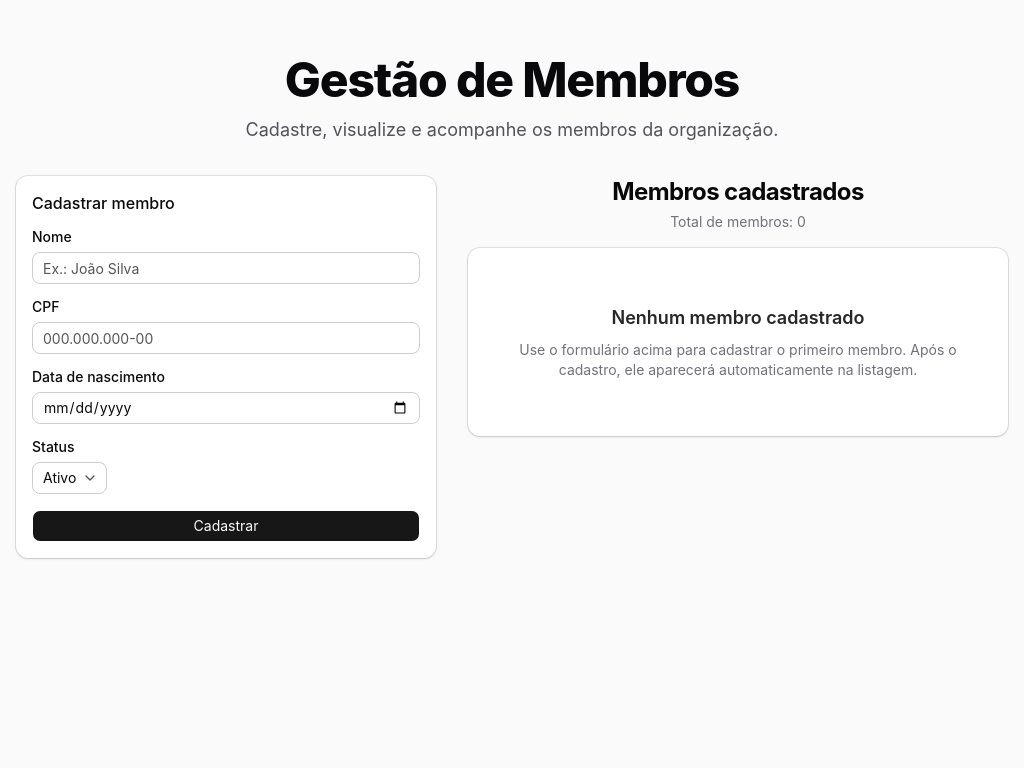
MembersPage › should create member and add it to the list
The width and height of the screenshot is (1024, 768).
Expected: the heading "Nenhum membro cadastrado" is shown, [612, 304, 864, 332]
Type "João Silva" into the field labelled "Nome" at [226, 268], box [32, 252, 420, 284]
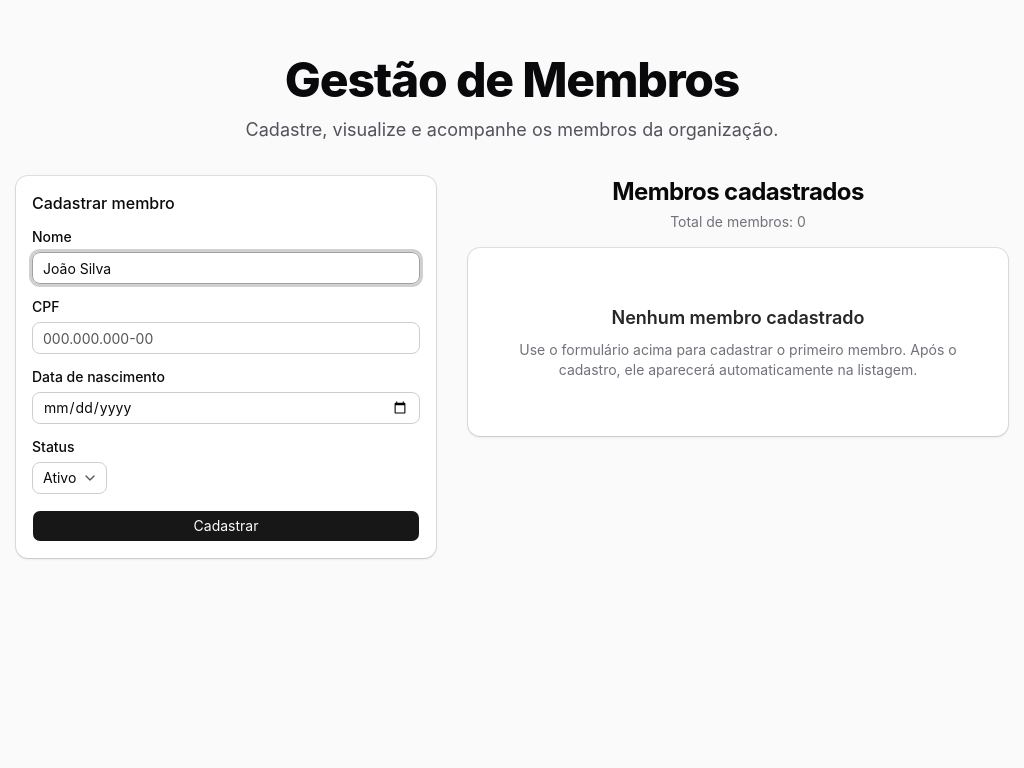
Type "52998224725" into the field labelled "CPF" at [226, 338], box [32, 322, 420, 354]
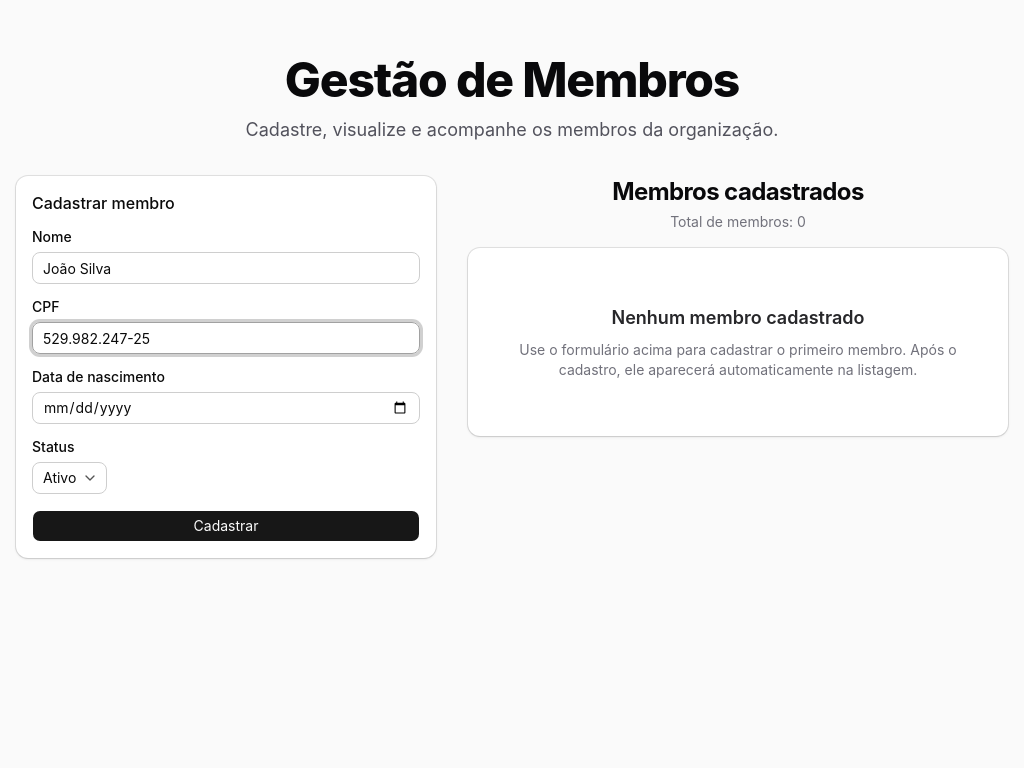
Type "2000-05-10" into the date field labelled "Data de nascimento" at [226, 408], box [32, 392, 420, 424]
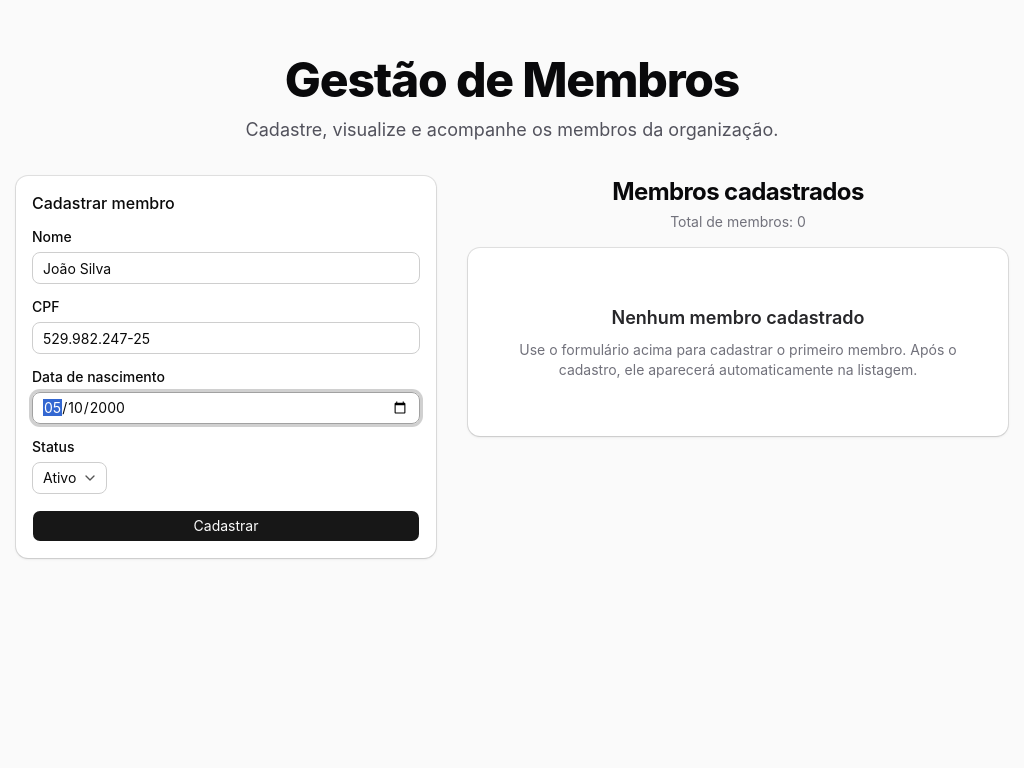
Click the button "Cadastrar" at [226, 526], box [32, 510, 420, 542]
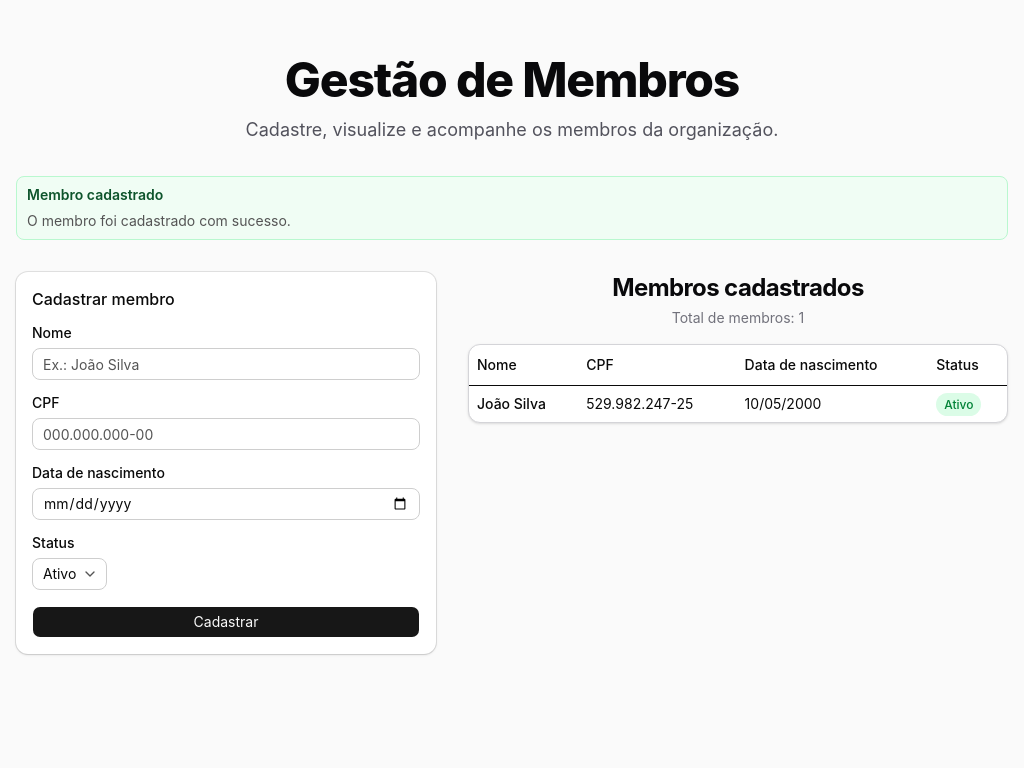
Expected: the text "Membro cadastrado" is shown, [27, 186, 163, 203]
Result: the text "João Silva" is shown at [469, 385, 578, 422]
Result: the text "Total de membros: 1" is shown at [672, 309, 804, 326]
